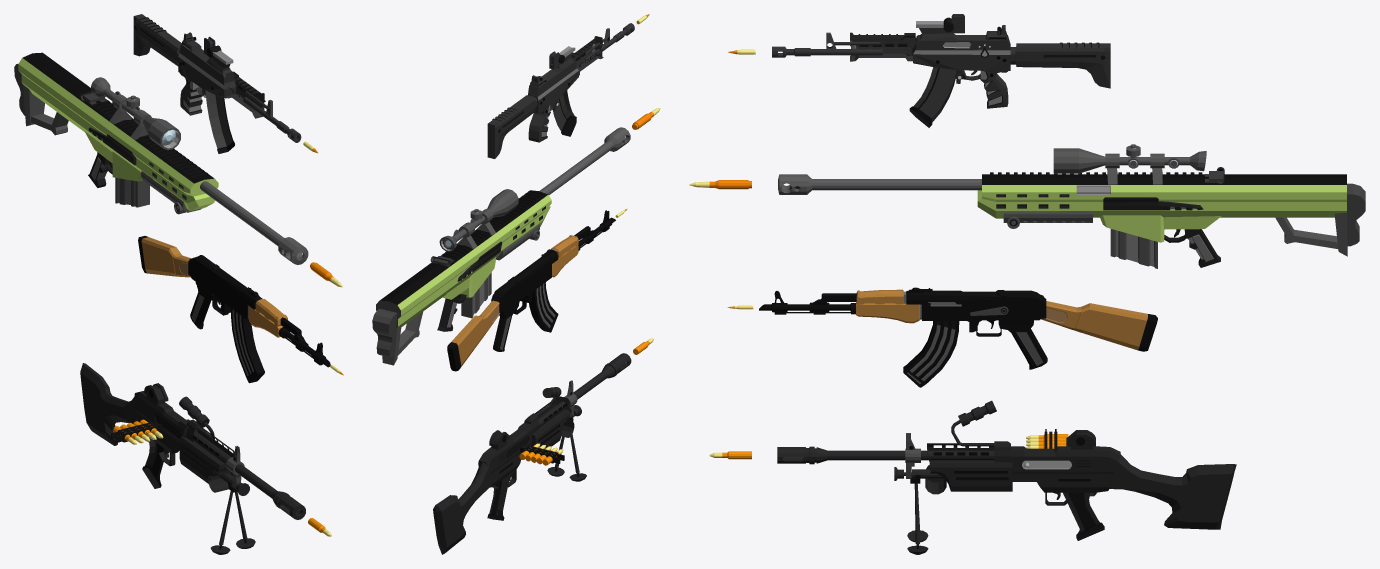
The model's file is GunMiniPackP2.fbx.
3 renders of one model, left to right at view 1: azimuth 30°, elevation 25°; view 2: azimuth 150°, elevation 25°; view 3: azimuth 270°, elevation 25°, orthographic. The views are drawn at different scales.
Visible parts, largest first — view 1: Gun.008, Gun.010, Gun.009, Gun.007, Gun.010.Bullets; view 2: Gun.008, Gun.010, Gun.009, Gun.007, Gun.010.Bullets; view 3: Gun.008, Gun.010, Gun.009, Gun.007.
Boxes of the visible parts, left/top/right/bottom form: Gun.008: left=14, top=52, right=308, bottom=264; Gun.010: left=80, top=363, right=305, bottom=554; Gun.009: left=138, top=236, right=330, bottom=383; Gun.007: left=133, top=14, right=301, bottom=153; Gun.010.Bullets: left=111, top=419, right=163, bottom=444; Gun.008: left=372, top=127, right=630, bottom=365; Gun.010: left=433, top=353, right=631, bottom=554; Gun.009: left=447, top=210, right=615, bottom=371; Gun.007: left=487, top=23, right=634, bottom=158; Gun.010.Bullets: left=519, top=443, right=564, bottom=465; Gun.008: left=778, top=144, right=1365, bottom=268; Gun.010: left=777, top=400, right=1236, bottom=554; Gun.009: left=759, top=287, right=1157, bottom=387; Gun.007: left=772, top=14, right=1110, bottom=127.
Bounding box in the file's own units: 1.9 × 10.7 × 12.37.
